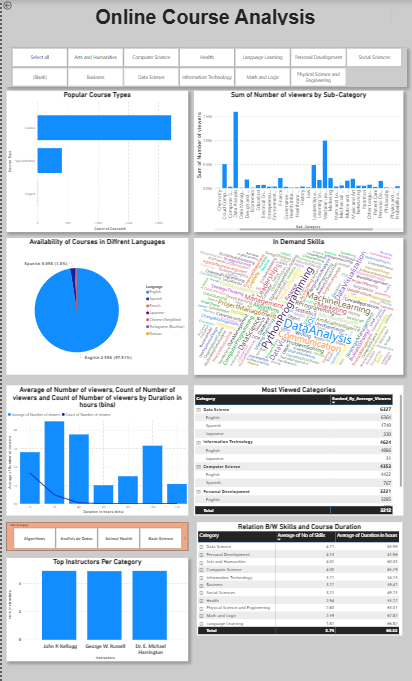

What the dashboard file says about the page in this screenshot:
{"tool":"powerbi","page":{"name":"Page 1","canvas":[1500,2500],"ordinal":0},"visuals":[{"type":"slicer","fields":{"Values":["Online_Courses.Category"]},"box":[15,171.7,1465,143.3],"z":0},{"type":"clusteredBarChart","title":"Popular Course Types","fields":{"Category":["Online_Courses.Course Type"],"Y":["CountNonNull(Online_Courses.CourseId)"]},"box":[15,331.7,665,516.7],"z":1000},{"type":"clusteredColumnChart","fields":{"Y":["Sum(Online_Courses.Number of viewers)"],"Category":["Online_Courses.Sub-Category","Online_Courses.Language"]},"box":[700,331.7,766.7,516.7],"z":2000},{"type":"actionButton","box":[0,0,100,40],"z":3000},{"type":"WordCloud1447959067750","title":"In Demand Skills","fields":{"Category":["Online_Courses.Skills"]},"box":[700,868.3,766.7,500],"z":4000},{"type":"pieChart","title":"Availability of Courses in Diffrent Languages","fields":{"Category":["Online_Courses.Language"],"Y":["CountNonNull(Online_Courses.CourseId)"]},"box":[15,868.3,665,500],"z":5000},{"type":"pivotTable","title":"Most Viewed Categories","fields":{"Rows":["Online_Courses.Category","Online_Courses.Language"],"Values":["Online_Courses.Rank_Categories_by_average_viewers"]},"box":[700,1411.7,766.7,476.7],"z":6000},{"type":"columnChart","title":"Top Instructors Per Category","fields":{"Category":["Instructors.Instructors"],"Y":["Instructors.rank_instructors"]},"box":[15,2041.7,665,378.3],"z":7000},{"type":"slicer","fields":{"Values":["Instructors.Sub-Category"]},"box":[15,1910,665,105],"z":8000},{"type":"lineClusteredColumnComboChart","fields":{"Category":["Online_Courses.Duration in hours (bins)"],"Y":["Avg(Online_Courses.Number of viewers)"],"Y2":["CountNonNull(Online_Courses.CourseId)"]},"box":[15,1411.7,665,476.7],"z":9000},{"type":"pivotTable","title":"Relation B/W Skills and Course Duration","fields":{"Rows":["Online_Courses.Category","Online_Courses.Sub-Category"],"Values":["Avg(Online_Courses.No of Skills)","Avg(Online_Courses.Duration in hours)"]},"box":[715,1910,751.7,415],"z":10000},{"type":"textbox","box":[58.3,18.3,1373.3,80],"z":11000}]}

Visuals, with their boxes in screenshot pixels (x1, y1, x2, y2), scaled from the page's 1500x2500 canvas onto the 412x681 screenshot:
slicer - Online_Courses.Category: [4, 47, 407, 86]
"Popular Course Types" clusteredBarChart: [4, 90, 187, 231]
clusteredColumnChart - Sum(Online_Courses.Number of viewers) x Online_Courses.Sub-Category: [192, 90, 403, 231]
actionButton: [0, 0, 27, 11]
"In Demand Skills" WordCloud1447959067750: [192, 237, 403, 373]
"Availability of Courses in Diffrent Languages" pieChart: [4, 237, 187, 373]
"Most Viewed Categories" pivotTable: [192, 385, 403, 514]
"Top Instructors Per Category" columnChart: [4, 556, 187, 659]
slicer - Instructors.Sub-Category: [4, 520, 187, 549]
lineClusteredColumnComboChart - Online_Courses.Duration in hours (bins) x Avg(Online_Courses.Number of viewers): [4, 385, 187, 514]
"Relation B/W Skills and Course Duration" pivotTable: [196, 520, 403, 633]
textbox: [16, 5, 393, 27]
